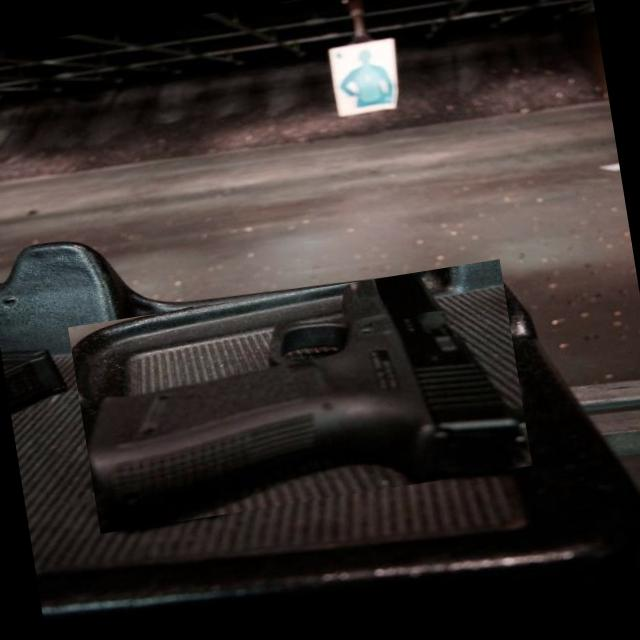Gun: (89, 273, 526, 527)
